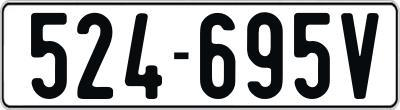2: (77, 11, 114, 99)
4: (124, 11, 167, 101)
5: (31, 10, 72, 97), (292, 12, 332, 100)
6: (198, 13, 233, 102)
9: (245, 12, 286, 105)
V: (338, 10, 379, 98)
